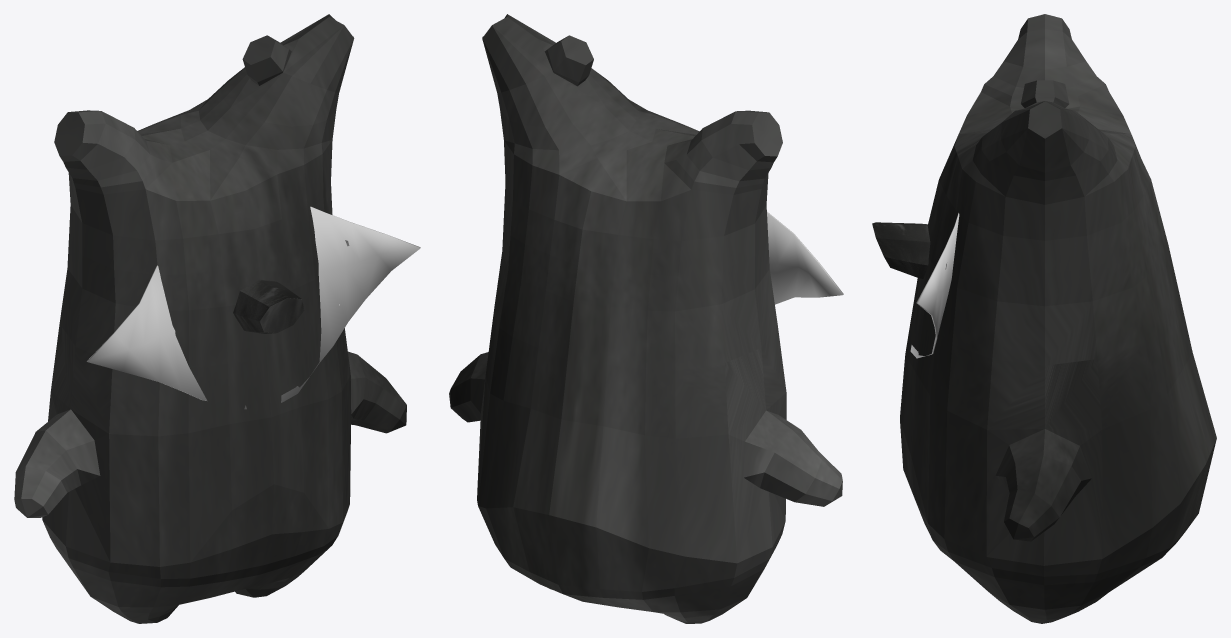
Rendered from frame_0016.obj.
3 views of the same model, side by side, from view 1: azimuth 30°, elevation 25°; view 2: azimuth 150°, elevation 25°; view 3: azimuth 270°, elevation 25° (orthographic).
Parts seen in each view (by area): view 1: korok, leaf, nose; view 2: korok, leaf; view 3: korok, nose, leaf.
Part boxes in pixels (x1,y1,x2,y2): korok: (14, 14, 406, 623); leaf: (87, 206, 420, 409); nose: (233, 279, 304, 333); korok: (449, 14, 842, 623); leaf: (767, 211, 843, 304); korok: (900, 14, 1216, 623); nose: (872, 222, 930, 278); leaf: (910, 213, 959, 358).
Size of the model in its own units: 1.64 by 2.25 by 1.27.
